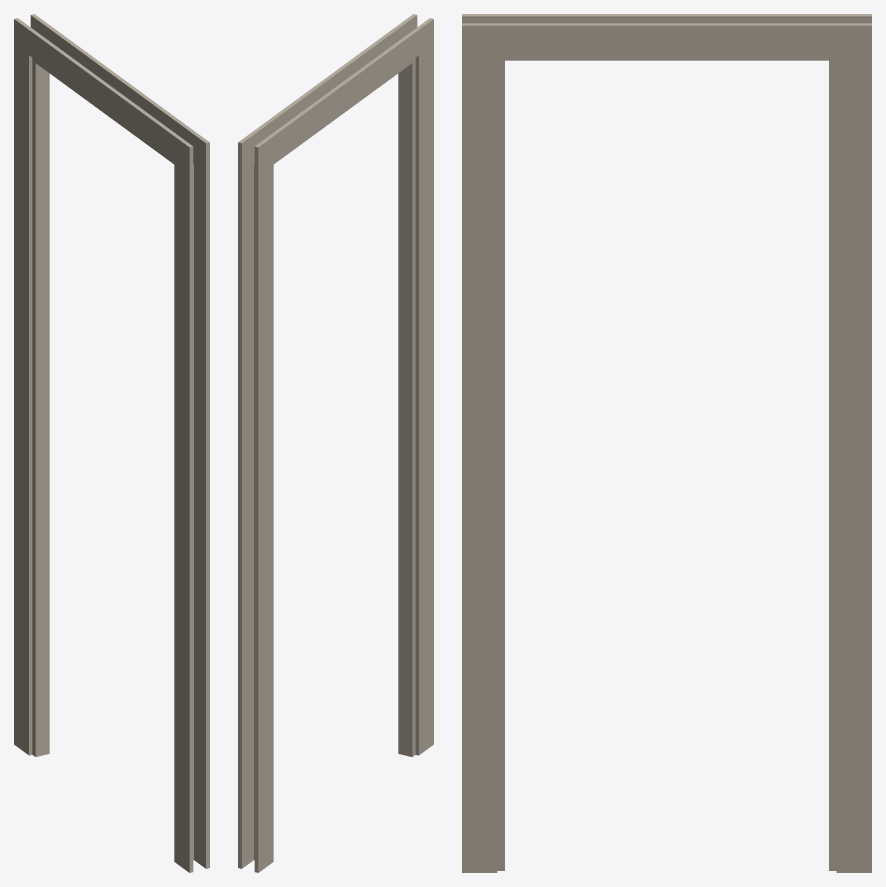
The model's file is 6_VENICE_Frame.glb.
3 renders of one model, left to right at view 1: azimuth 30°, elevation 25°; view 2: azimuth 150°, elevation 25°; view 3: azimuth 270°, elevation 25°, orthographic. The views are drawn at different scales.
Parts seen in each view (by area): view 1: 6_VENICE_Frame; view 2: 6_VENICE_Frame; view 3: 6_VENICE_Frame.
Part boxes in pixels (<box>): 6_VENICE_Frame: <box>14,14,209,872</box>; 6_VENICE_Frame: <box>238,14,433,872</box>; 6_VENICE_Frame: <box>462,14,871,872</box>.
Size of the model in its own units: 0.0685 by 2.33 by 1.02.
